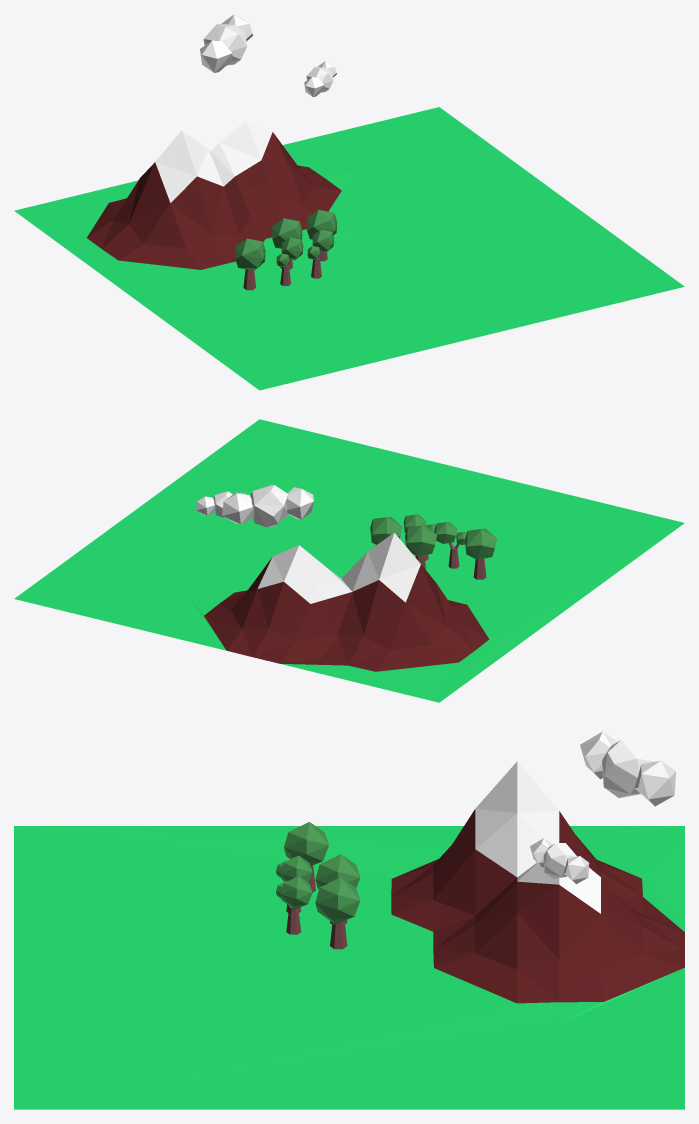
Rendered from land.gltf.
3 views of the same model, one above another, from view 1: azimuth 30°, elevation 25°; view 2: azimuth 150°, elevation 25°; view 3: azimuth 270°, elevation 25° (orthographic). The views are drawn at different scales.
Visible parts, largest first — view 1: Plane, Icosphere.001, Icosphere, Cylinder, Icosphere.002, Cylinder.002, Cylinder.001; view 2: Plane, Icosphere.001, Icosphere, Cylinder, Cylinder.001, Cylinder.002, Icosphere.002; view 3: Plane, Icosphere.001, Cylinder.002, Icosphere, Icosphere.002, Cylinder, Cylinder.001.
Part boxes in pixels (<box>): Plane: <box>14,107,684,390</box>; Icosphere.001: <box>200,14,252,72</box>; Icosphere: <box>276,230,333,285</box>; Cylinder: <box>235,238,265,290</box>; Icosphere.002: <box>304,61,336,97</box>; Cylinder.002: <box>307,210,337,261</box>; Cylinder.001: <box>272,218,302,269</box>; Plane: <box>14,419,684,702</box>; Icosphere.001: <box>222,484,313,527</box>; Icosphere: <box>403,514,466,568</box>; Cylinder: <box>465,528,496,579</box>; Cylinder.001: <box>405,525,436,569</box>; Cylinder.002: <box>370,516,402,544</box>; Icosphere.002: <box>196,491,246,517</box>; Plane: <box>14,761,684,1109</box>; Icosphere.001: <box>580,731,675,806</box>; Cylinder.002: <box>315,877,360,949</box>; Icosphere: <box>276,855,312,934</box>; Icosphere.002: <box>530,838,589,884</box>; Cylinder: <box>284,822,328,892</box>; Cylinder.001: <box>315,854,360,924</box>.
Bounding box in the file's own units: 14.03 × 4.88 × 14.04.
